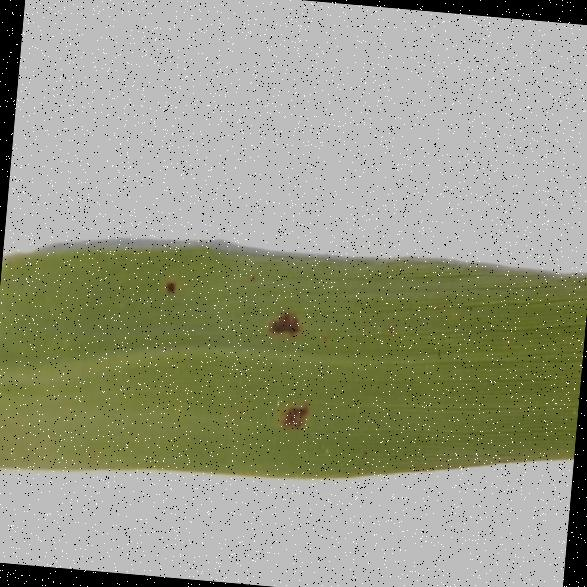Brown_Spot: (260, 280, 324, 370), (276, 390, 327, 444), (154, 265, 190, 316)
